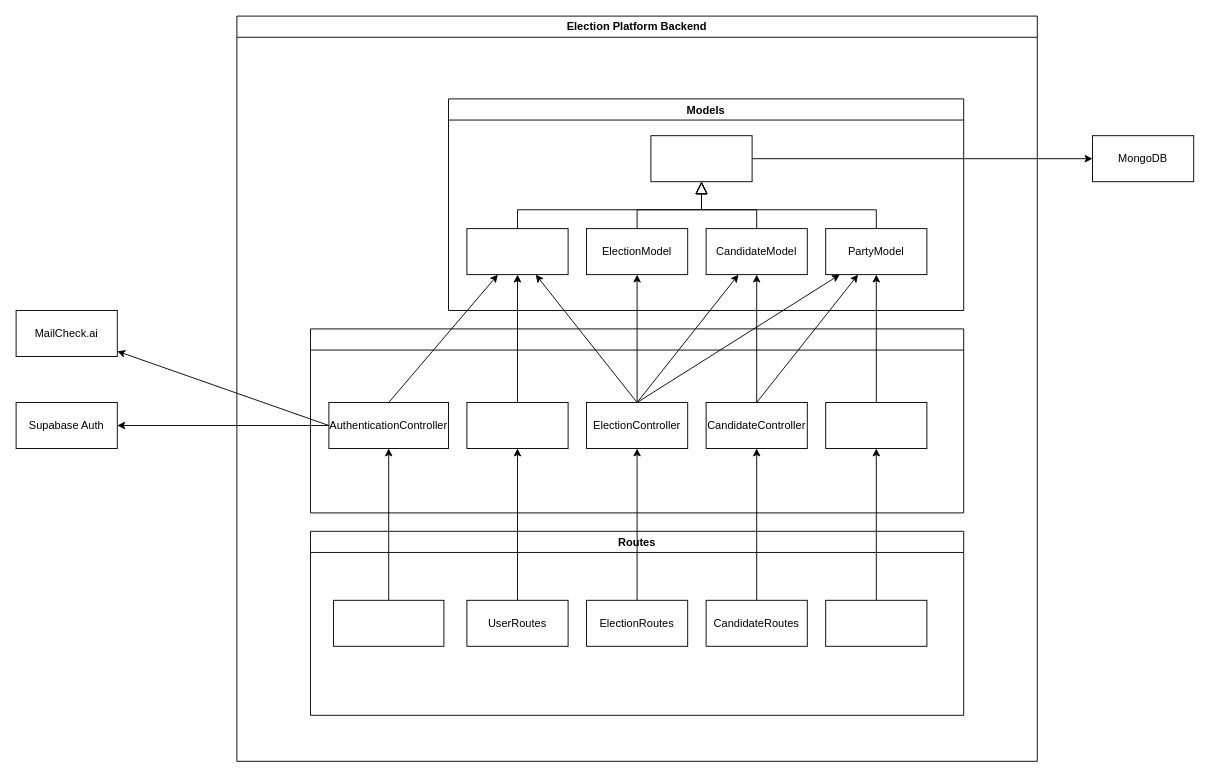
This 1210x777 diagram has some shape labels left out. Each missing label, with the box of its shape:
AuthenticationRoutes: (333, 599, 444, 646)
Controllers: (310, 328, 964, 513)
MongooseModel: (650, 135, 752, 182)
PartyController: (825, 402, 927, 448)
PartyRoutes: (825, 599, 927, 646)
UserController: (466, 402, 568, 448)
UserModel: (466, 228, 568, 275)
